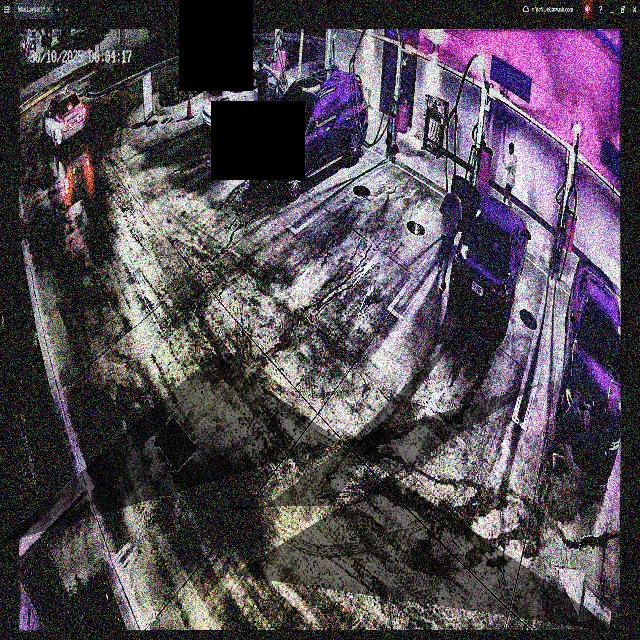Car: (243, 64, 369, 194), (450, 175, 530, 337)
